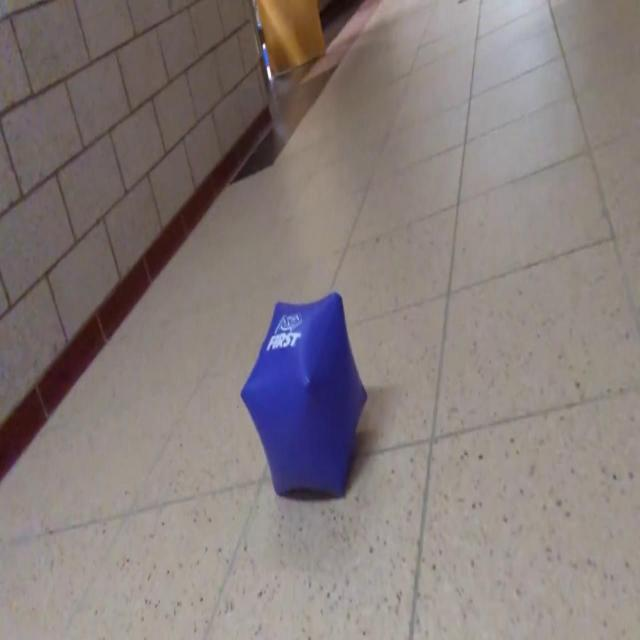frc_cube: (241, 294, 367, 503)
